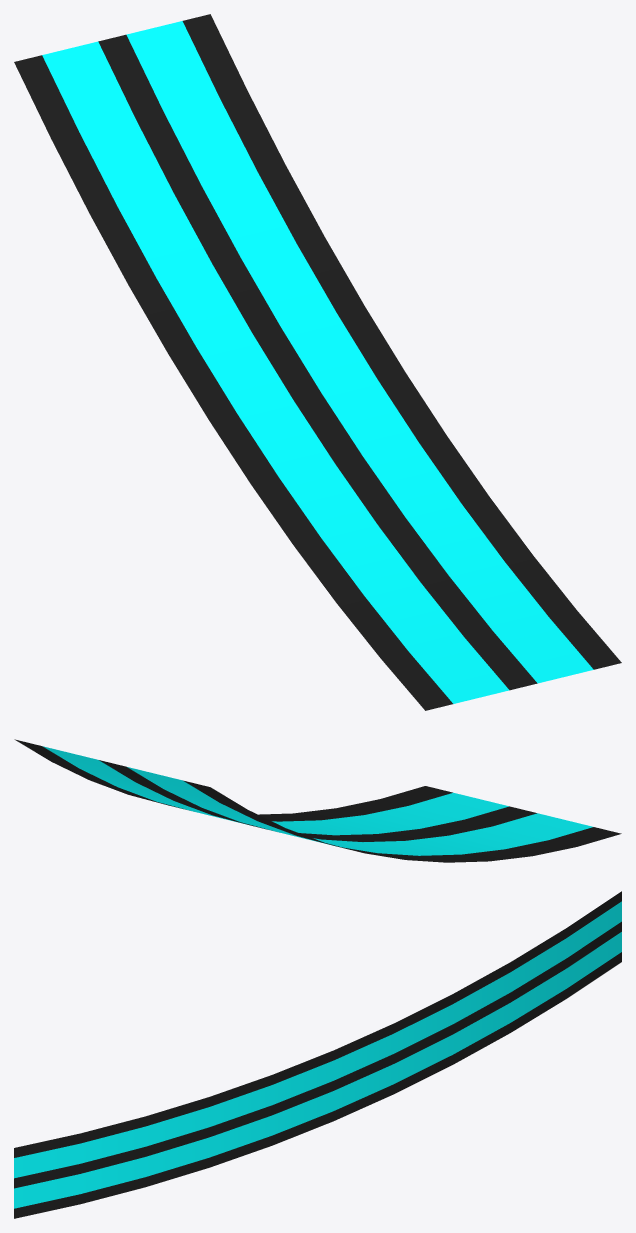
File: RaceTrack_Up25DegreeBent_20m 1.fbx
3 views of the same model, one above another, from view 1: azimuth 30°, elevation 25°; view 2: azimuth 150°, elevation 25°; view 3: azimuth 270°, elevation 25° (orthographic). The views are drawn at different scales.
Visible parts, largest first — view 1: Up25DegreeBent_20m; view 2: Up25DegreeBent_20m; view 3: Up25DegreeBent_20m.
Part boxes in pixels (bbox=[...]): Up25DegreeBent_20m: bbox=[14, 14, 621, 710]; Up25DegreeBent_20m: bbox=[14, 739, 621, 862]; Up25DegreeBent_20m: bbox=[14, 891, 621, 1218].
Size of the model in its own units: 5 by 8.45 by 18.13.
